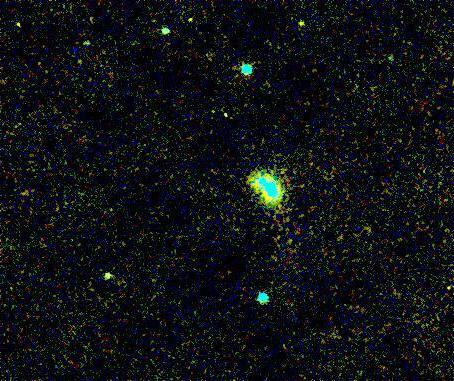star: (95, 262, 125, 292)
